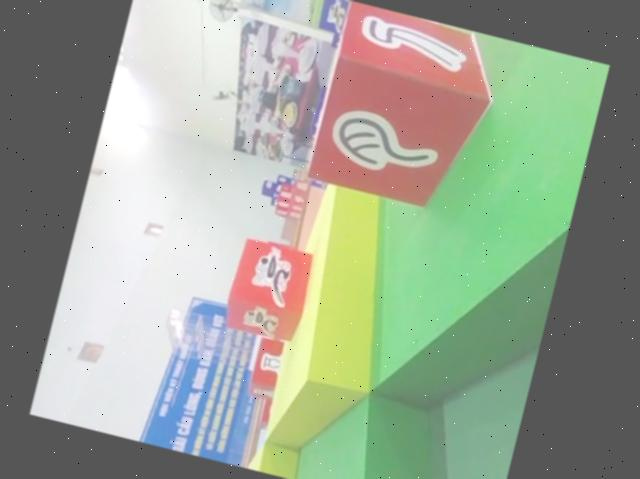R1: (221, 233, 320, 342)
R2 Fake: (302, 0, 505, 217)
